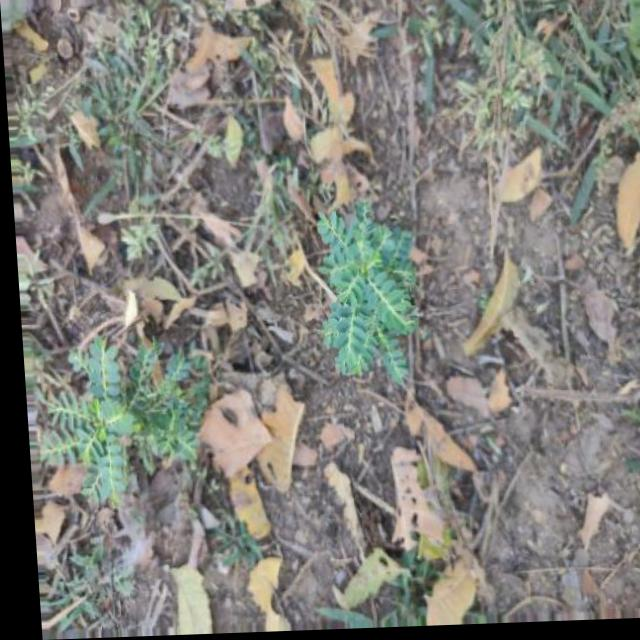weed: (28, 318, 231, 537), (304, 204, 427, 385)
